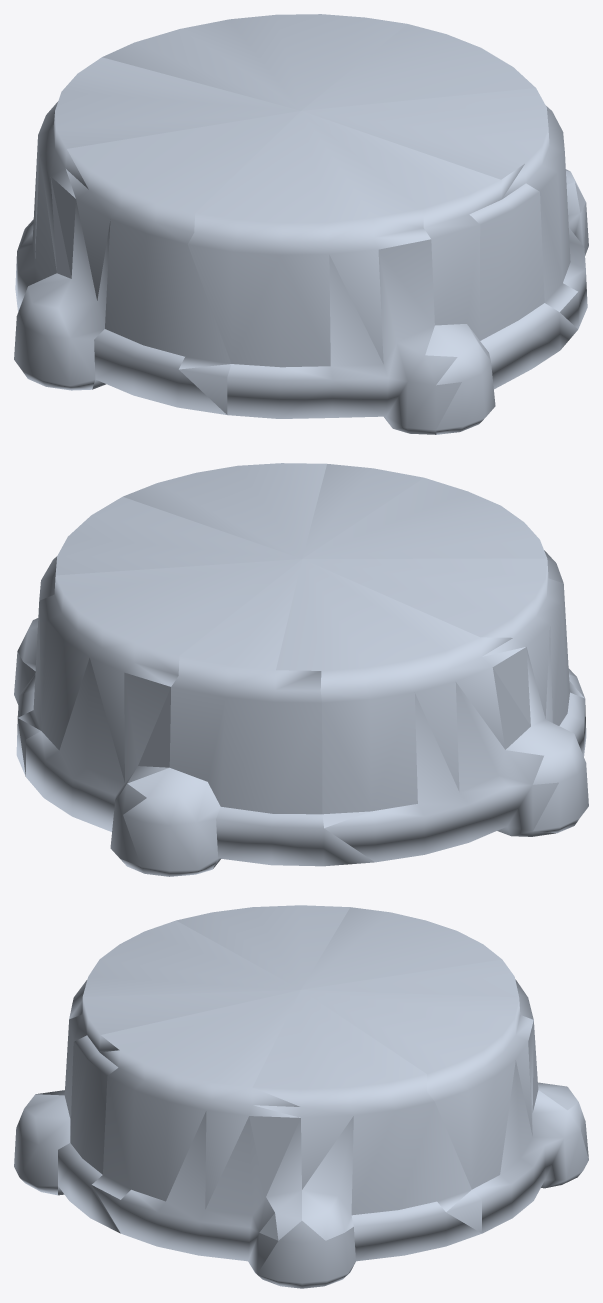
The model's file is Robot Arm_Bottom.fbx.
The picture shows the model from 3 angles, top to bottom: view 1: azimuth 30°, elevation 25°; view 2: azimuth 150°, elevation 25°; view 3: azimuth 270°, elevation 25°; orthographic projection. The views are drawn at different scales.
Parts seen in each view (by area): view 1: MeshTransformExportRoot; view 2: MeshTransformExportRoot; view 3: MeshTransformExportRoot.
Boxes of the visible parts, x1,y1,x2,y2 form: MeshTransformExportRoot: [14, 14, 588, 434]; MeshTransformExportRoot: [14, 463, 588, 876]; MeshTransformExportRoot: [14, 905, 588, 1288].
Bounding box in the file's own units: 99.8 × 35.35 × 99.8.
